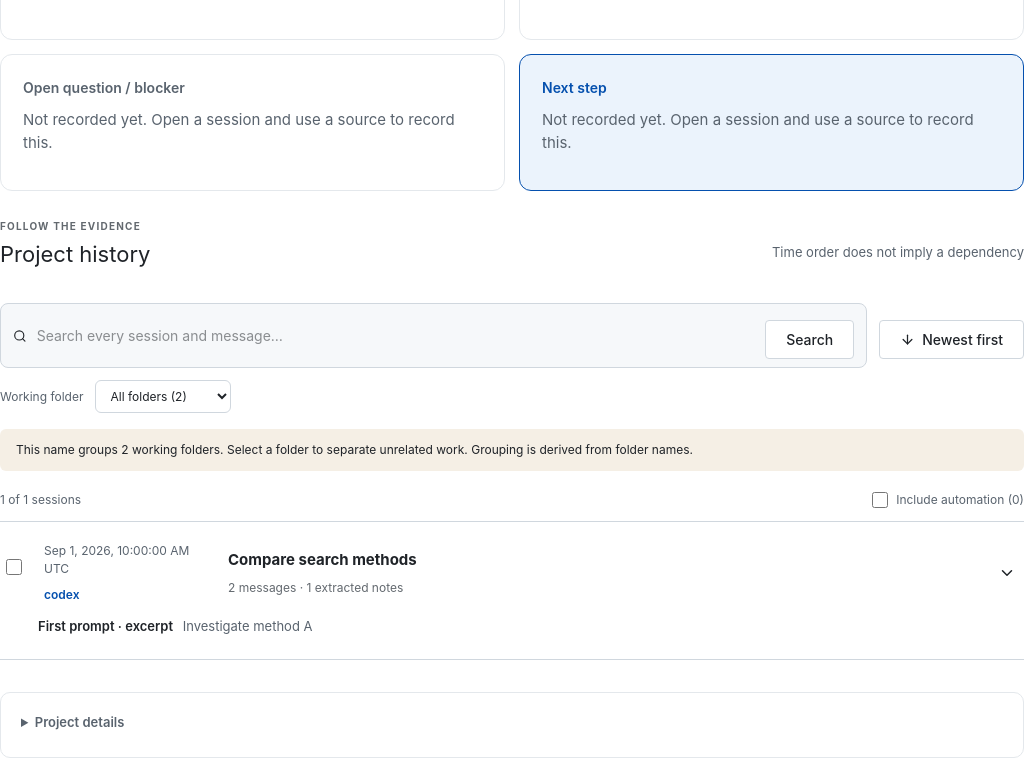
Project story › clears selection explicitly when the source folder changes
(page scrolled)
Click the checkbox named "Include Compare": (14, 567) [6, 559, 22, 575]
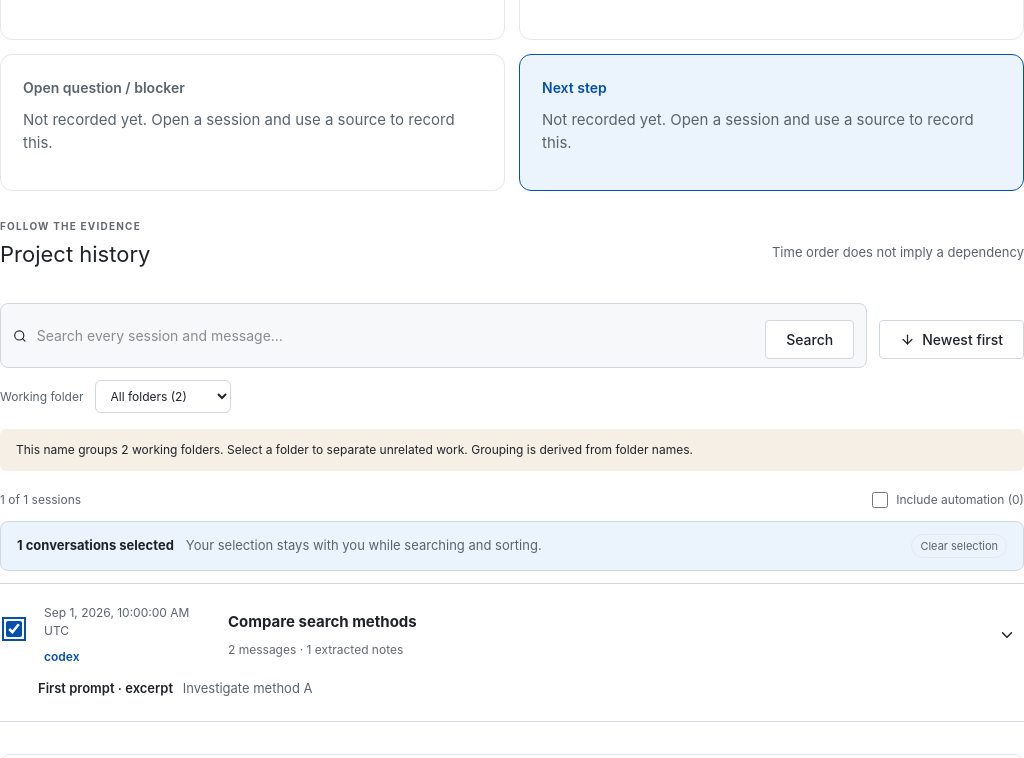
Select "/team/a/Atlas (1)" in the dropdown labelled "Working folder": (164, 397) [96, 380, 232, 413]
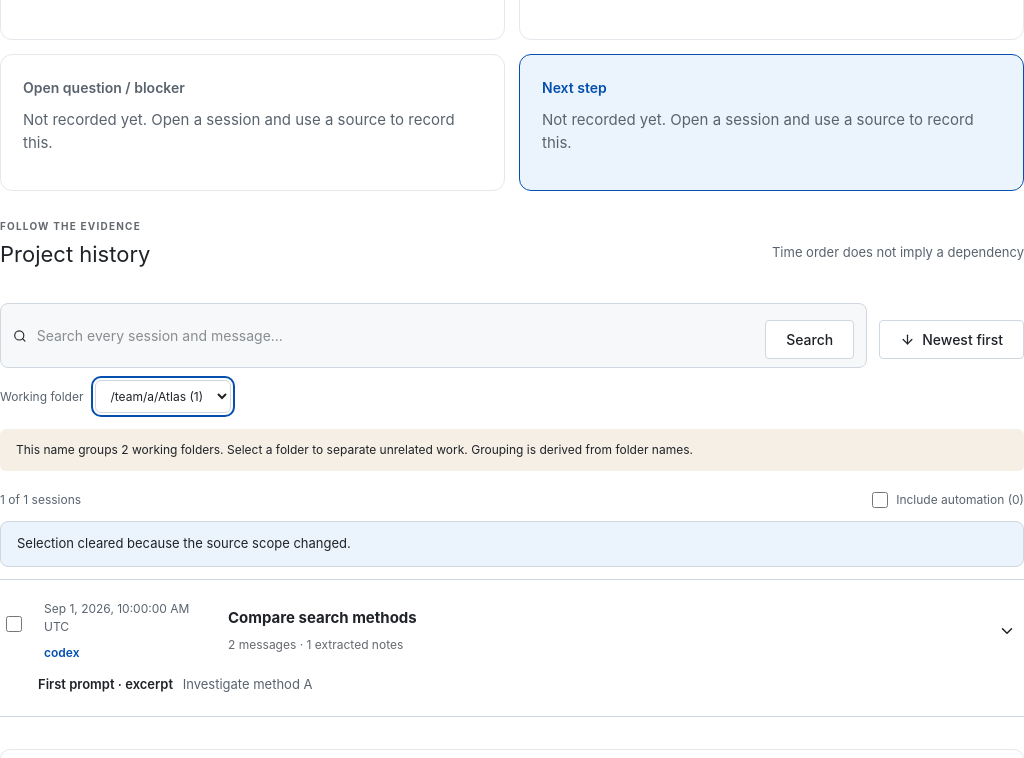
Check: the checkbox named "Include Compare" is not checked, box [6, 616, 22, 632]
Check: the text "Selection cleared because the source scope changed." is shown, box [0, 521, 1023, 567]
